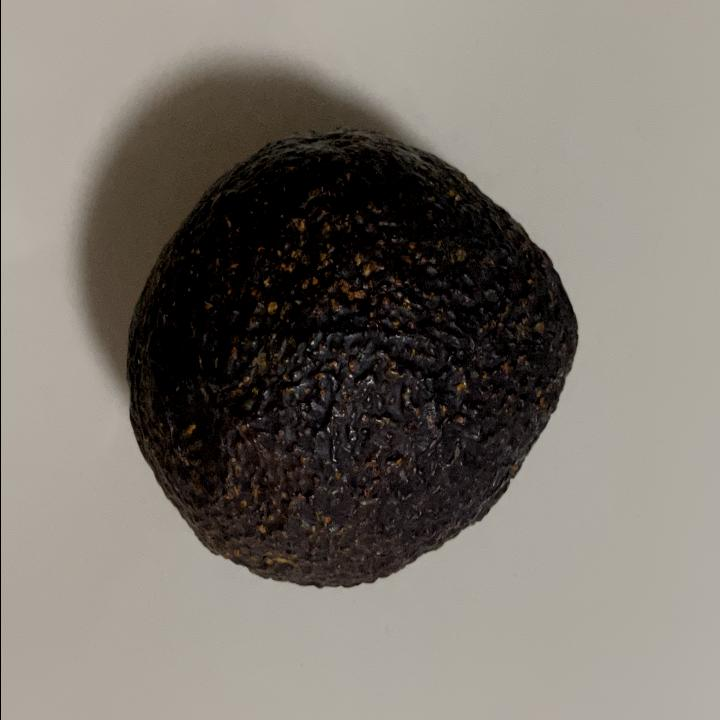Level2: (117, 124, 588, 595)
